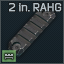Remington RAHG 2 inch rail: (0, 0, 64, 64)
